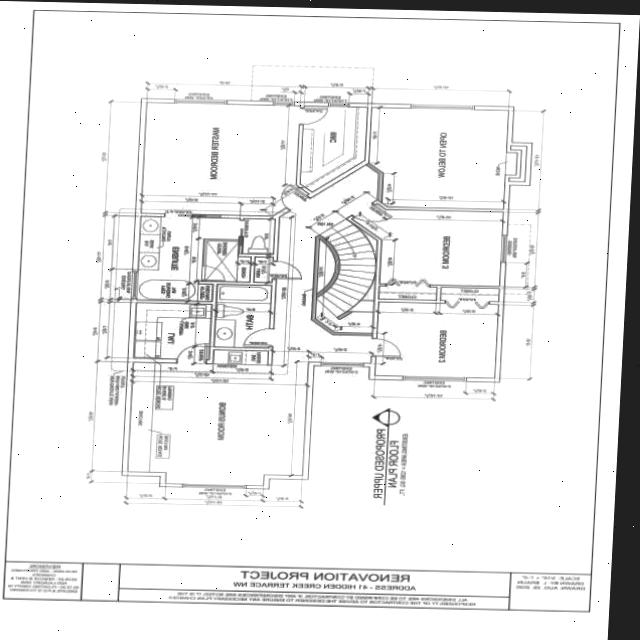room: (141, 101, 311, 216), (368, 106, 508, 209), (348, 201, 503, 289), (375, 301, 498, 377), (300, 103, 367, 194), (134, 302, 212, 359), (214, 282, 272, 349), (243, 217, 275, 254), (441, 287, 499, 301), (379, 285, 437, 299), (254, 255, 273, 282)
